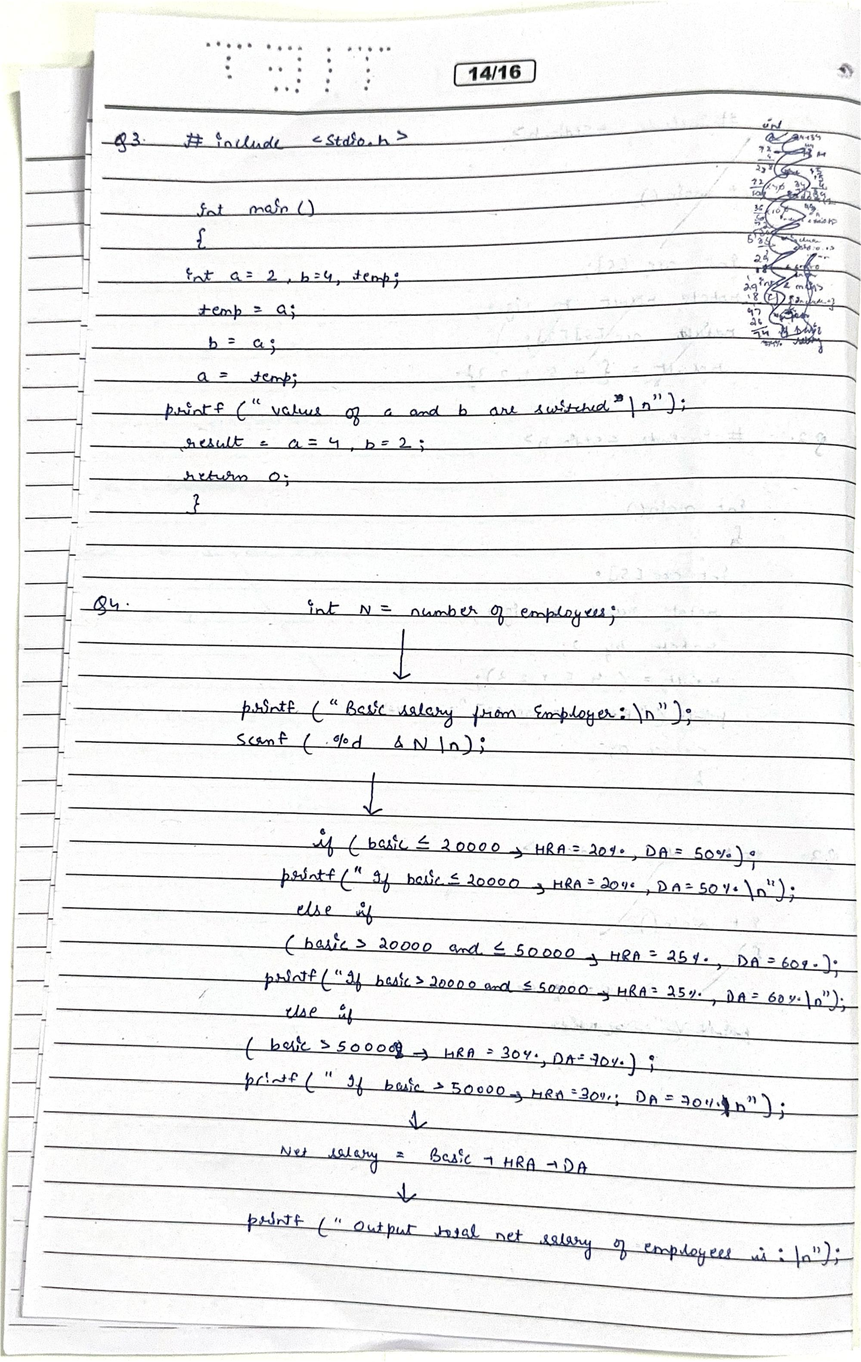cuttings: (742, 119, 841, 350)
